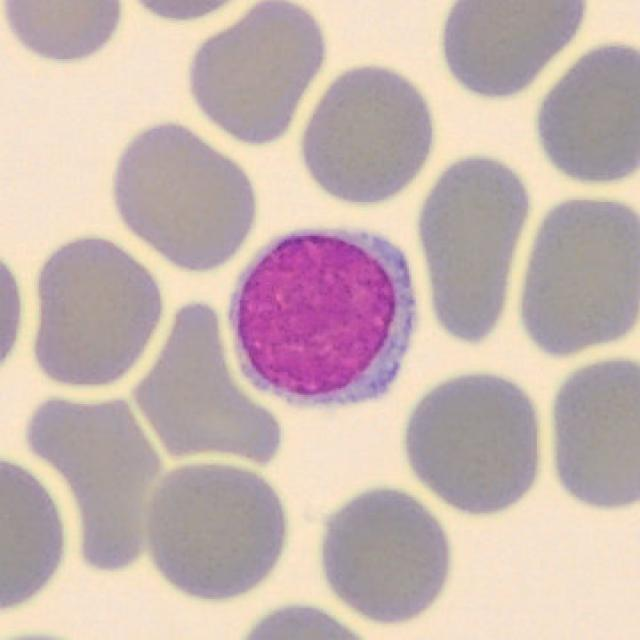Linfocito: (230, 226, 415, 409)
